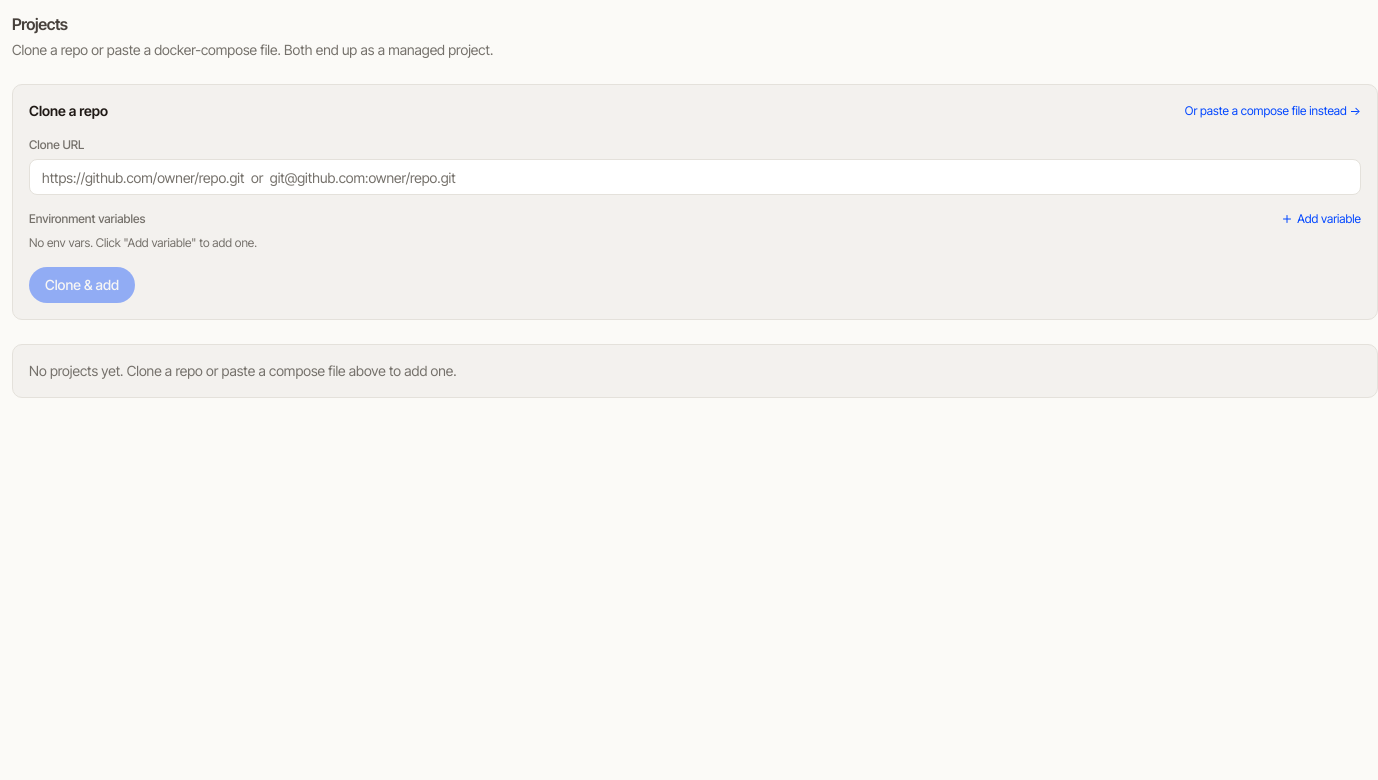
Test: adding projects › offers cloning first and switches to pasting a compose file and back
Check: the heading "Clone a repo" is shown, box [29,101,108,121]
Check: the field labelled "Clone URL" is shown, box [29,159,1361,195]
Click the button "Or paste a compose file instead →". click: (1273,111)
box: [1185,103,1361,119]
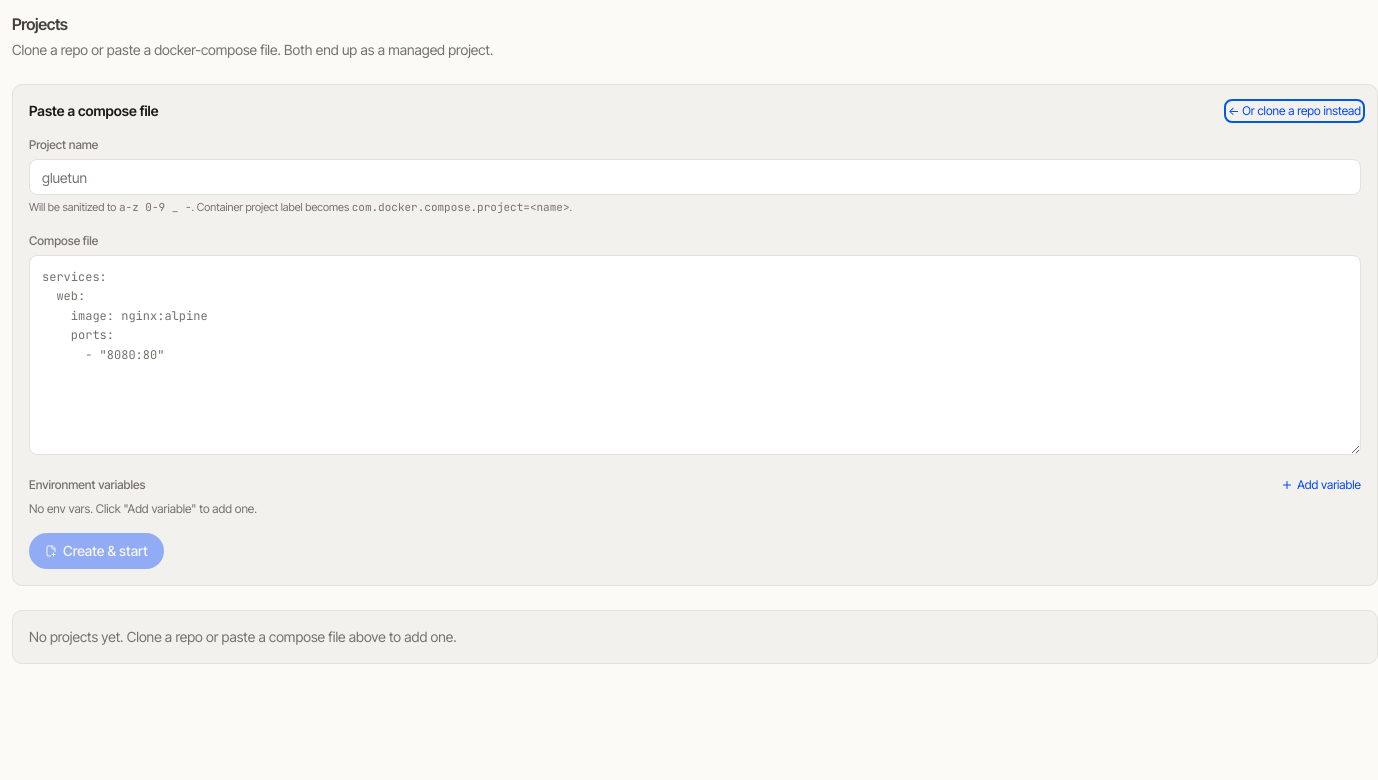
Check: the heading "Paste a compose file" is shown, box [29,101,158,121]
Check: the text box named "Compose file content" is shown, box [29,255,1361,455]
Click the button "← Or clone a repo instead". click: (1294,111)
box: [1228,103,1361,119]
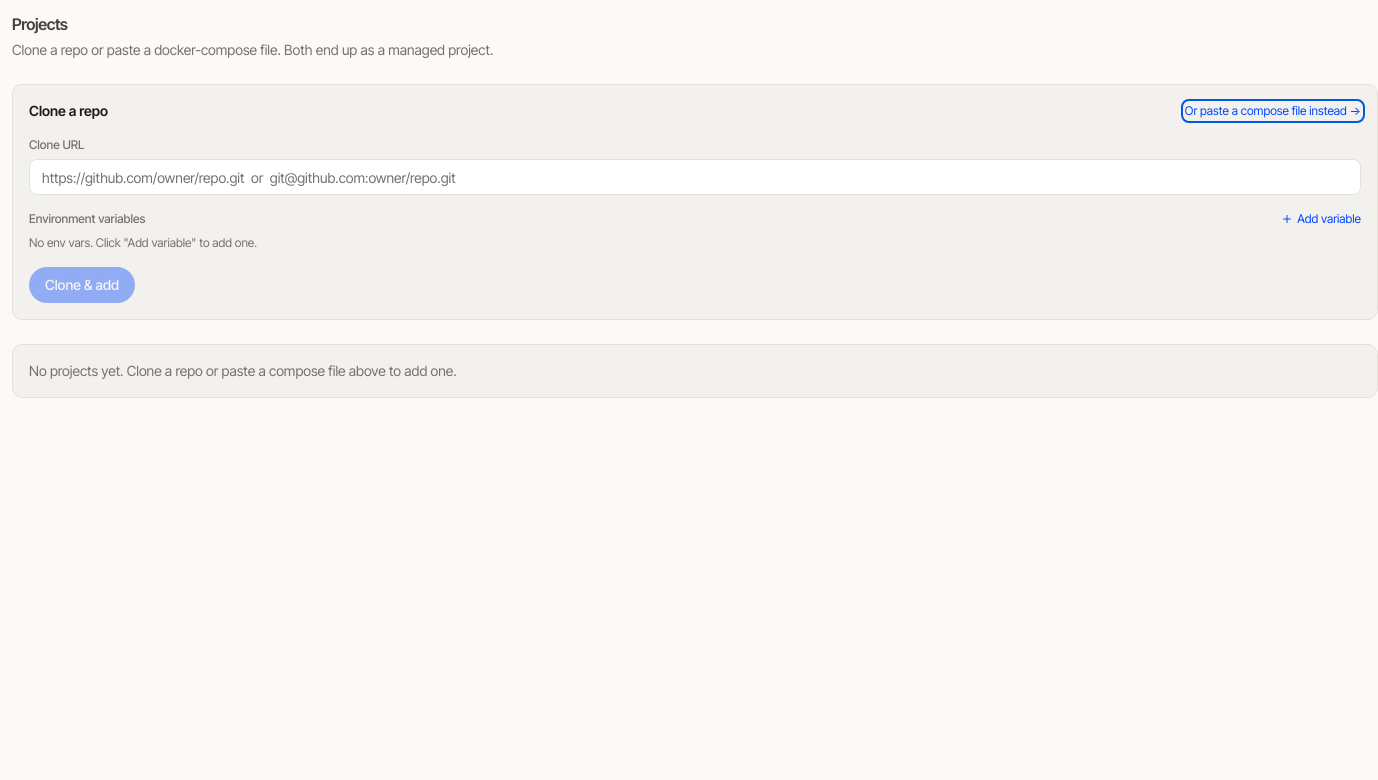
Check: the field labelled "Clone URL" is shown, box [29,159,1361,195]
